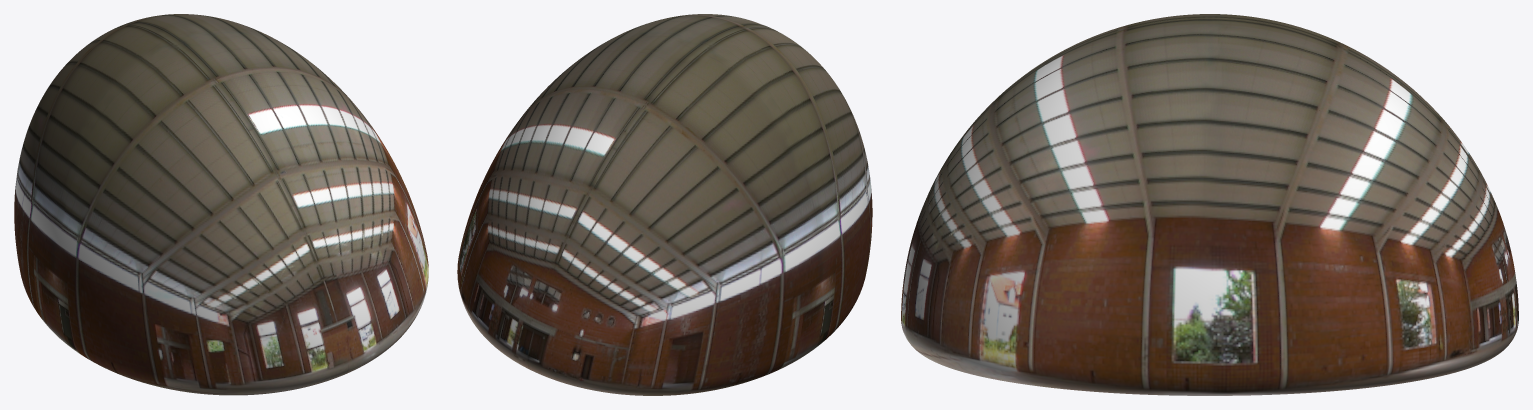
3 renders of one model, left to right at view 1: azimuth 30°, elevation 25°; view 2: azimuth 150°, elevation 25°; view 3: azimuth 270°, elevation 25°, orthographic. The views are drawn at different scales.
Visible parts, largest first — view 1: Dome; view 2: Dome; view 3: Dome.
Boxes of the visible parts, x1=… form: Dome: x1=14, y1=14, x2=428, y2=395; Dome: x1=457, y1=14, x2=872, y2=395; Dome: x1=901, y1=14, x2=1518, y2=395.
Size of what is drawn, in the model's own units: 12.48 by 10.53 by 17.27.
57 materials, 43 textured.
